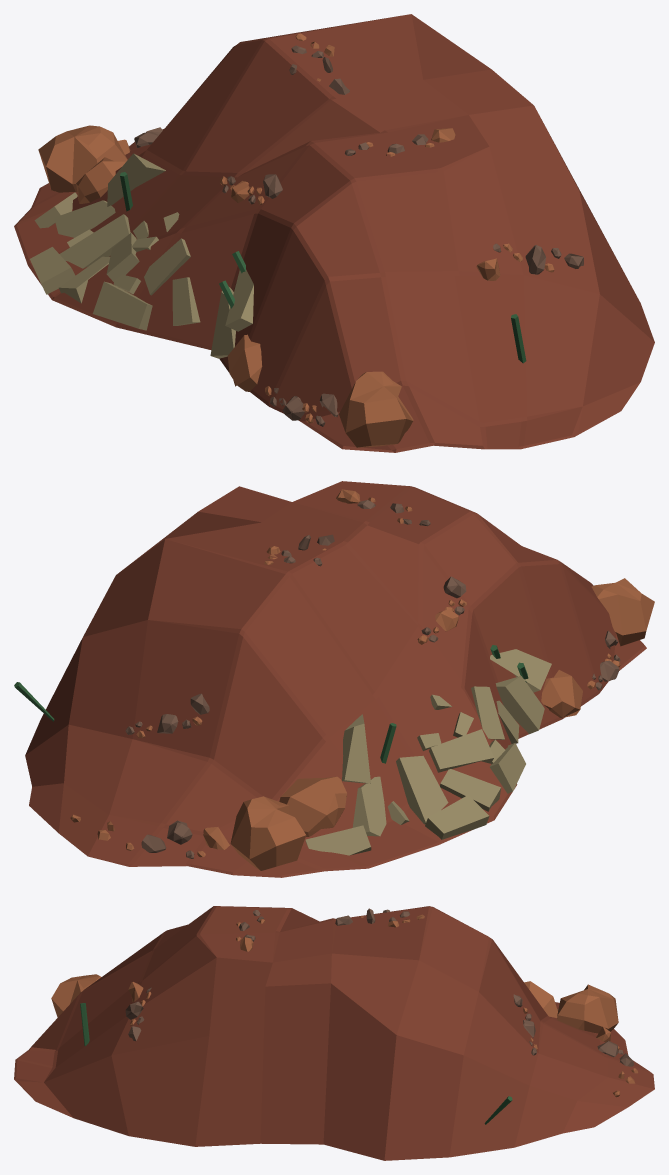
Rendered from Dirt_Pile_Main_001.FBX.
3 views of the same model, one above another, from view 1: azimuth 30°, elevation 25°; view 2: azimuth 150°, elevation 25°; view 3: azimuth 270°, elevation 25° (orthographic). The views are drawn at different scales.
Visible parts, largest first — view 1: Dirt_Pile_Main_001; view 2: Dirt_Pile_Main_001; view 3: Dirt_Pile_Main_001.
Boxes of the visible parts, x1,y1,x2,y2 form: Dirt_Pile_Main_001: [14, 14, 654, 452]; Dirt_Pile_Main_001: [14, 481, 654, 877]; Dirt_Pile_Main_001: [14, 906, 654, 1160].
Size of the model in its own units: 4322 by 1887 by 6569.
